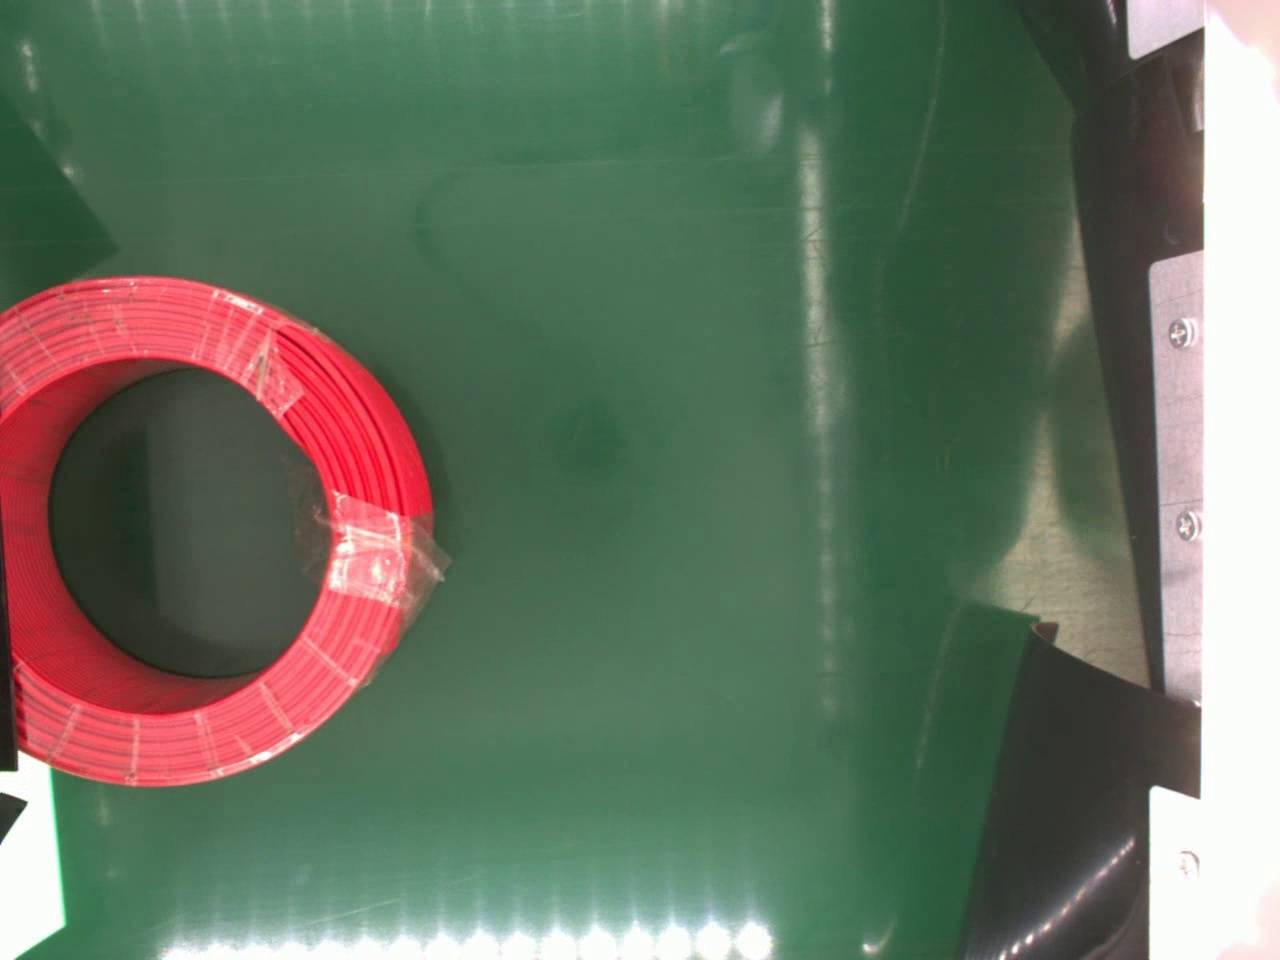red: (0, 274, 436, 793)
